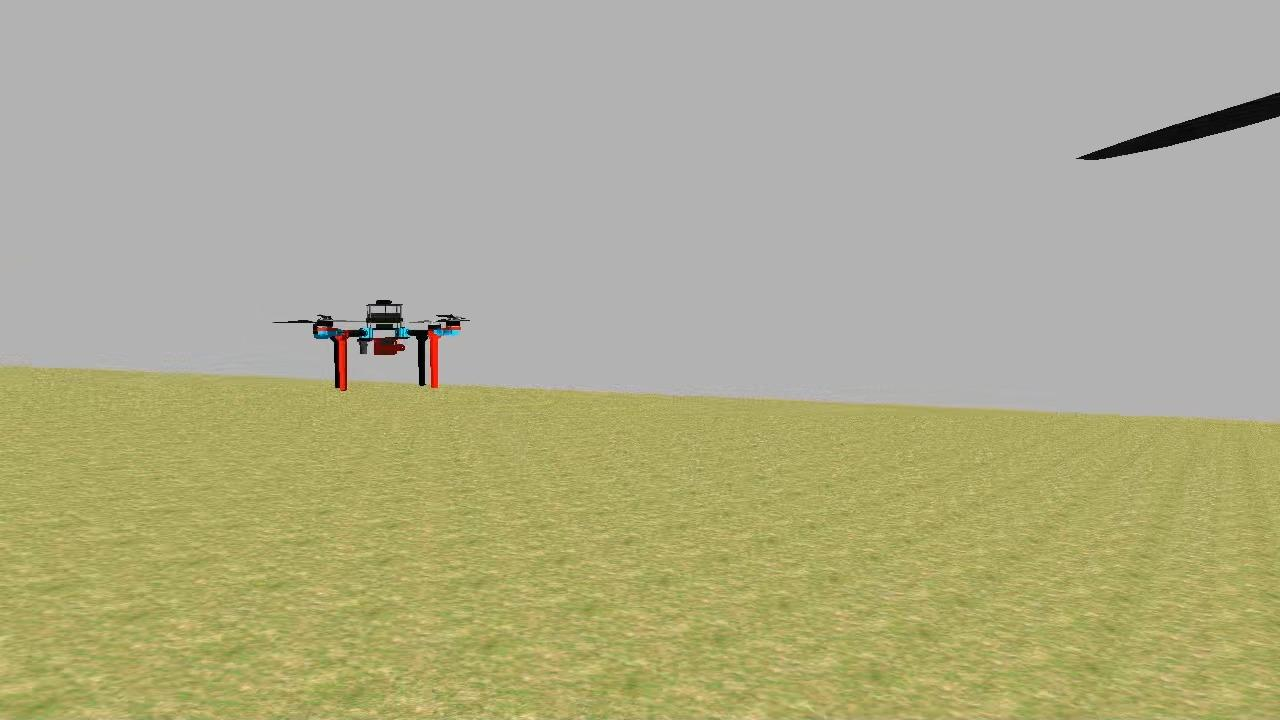UAV: (306, 292, 472, 398)
